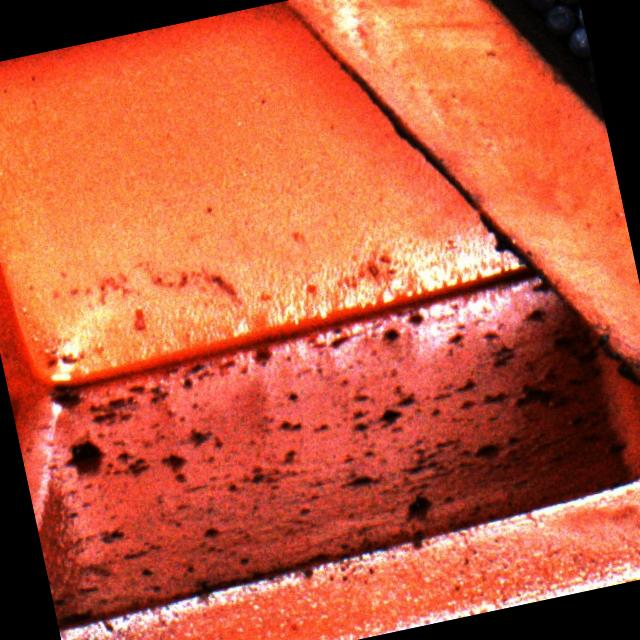tool: (544, 2, 578, 37), (566, 27, 590, 59), (523, 0, 556, 11)
